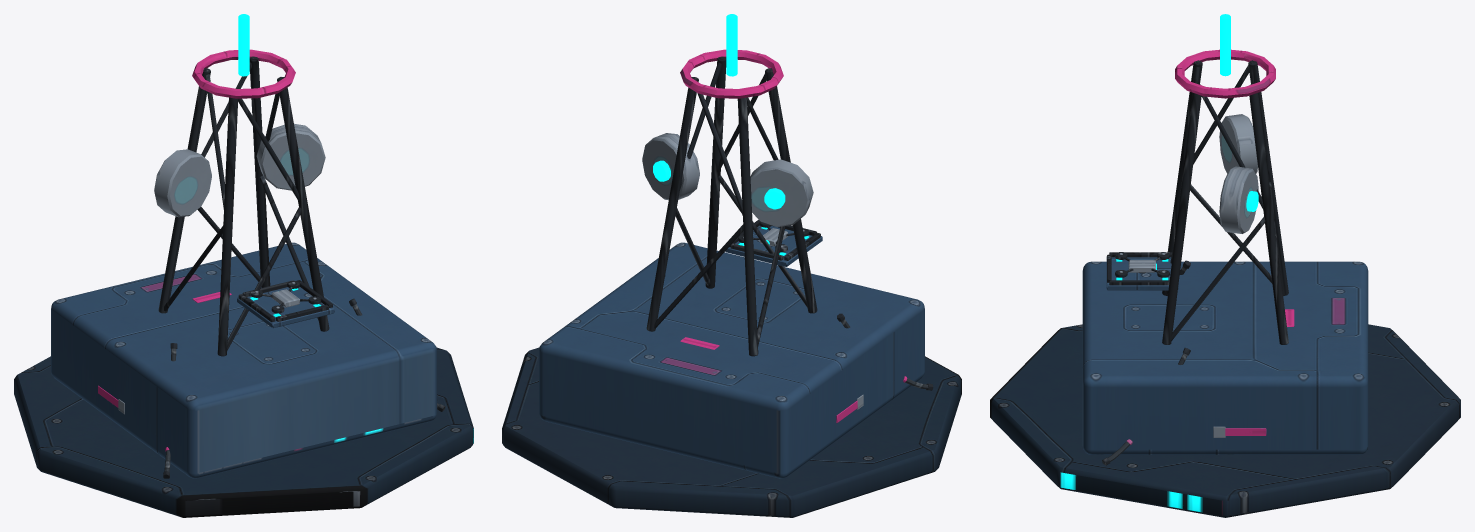
Rendered from DeepSpaceRelay_Atlas.fbx.
3 renders of one model, left to right at view 1: azimuth 30°, elevation 25°; view 2: azimuth 150°, elevation 25°; view 3: azimuth 270°, elevation 25°, orthographic.
Parts seen in each view (by area): view 1: DeepSpaceRelay_UnifiedMesh; view 2: DeepSpaceRelay_UnifiedMesh; view 3: DeepSpaceRelay_UnifiedMesh.
Boxes of the visible parts, bbox=[...] form: DeepSpaceRelay_UnifiedMesh: bbox=[14, 14, 473, 517]; DeepSpaceRelay_UnifiedMesh: bbox=[502, 14, 961, 517]; DeepSpaceRelay_UnifiedMesh: bbox=[990, 14, 1460, 517].
Bounding box in the file's own units: 623 × 590 × 623.
1 material, 1 textured.
